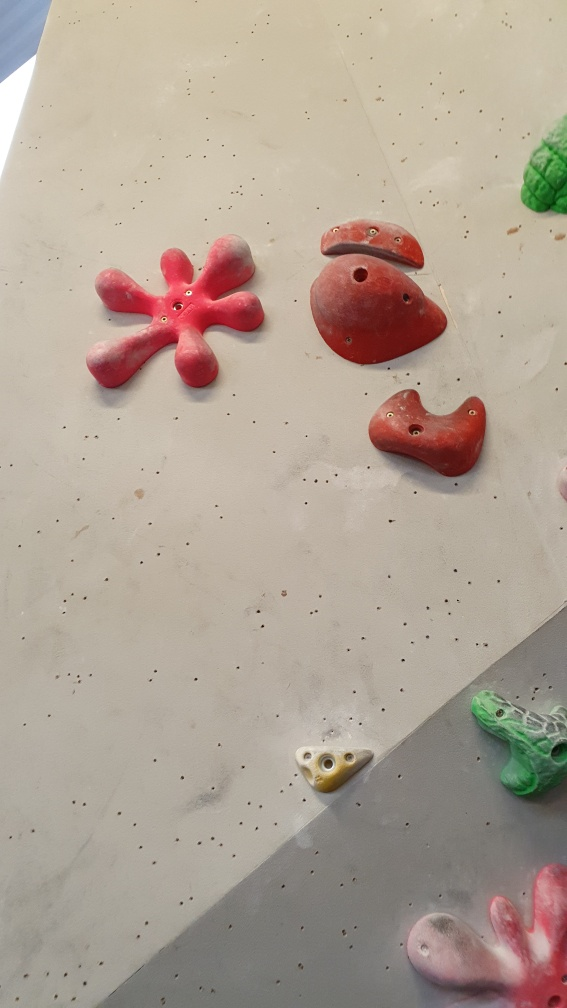Octopus Pinch: (86, 233, 270, 393), (405, 854, 564, 1005)
